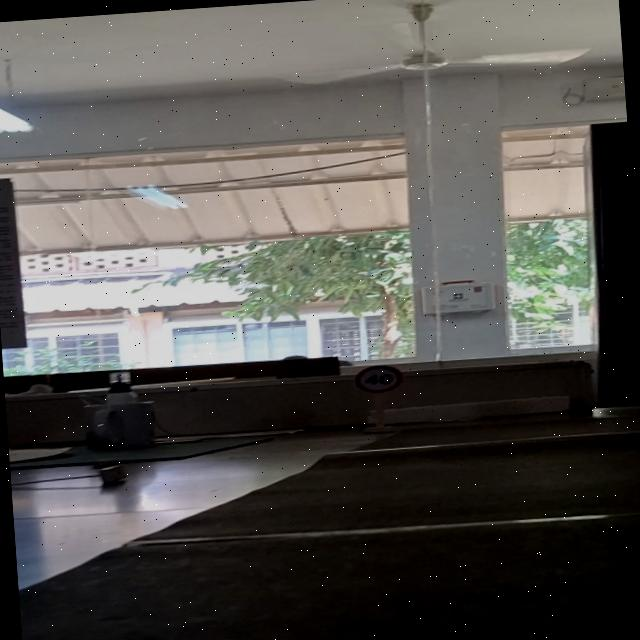Speed40: (351, 362, 404, 396)
